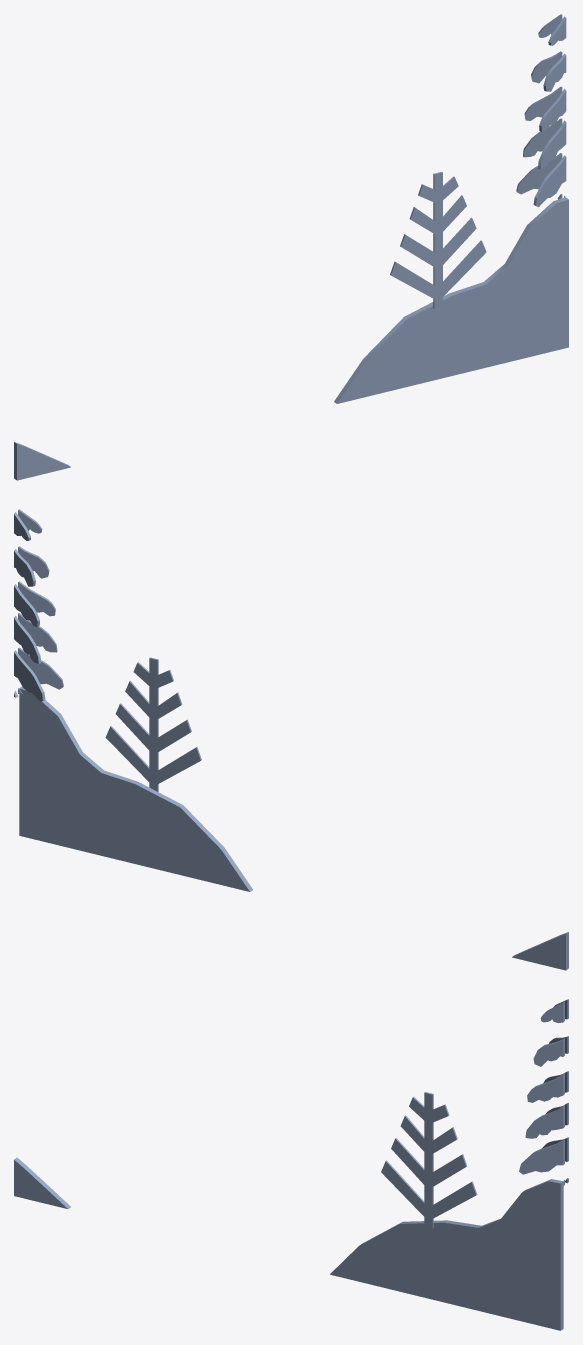
Rendered from frame_0152.glb.
3 renders of one model, top to bottom at view 1: azimuth 30°, elevation 25°; view 2: azimuth 150°, elevation 25°; view 3: azimuth 330°, elevation 25°, orthographic.
Visible parts, largest first — view 1: export_trees_001.002; view 2: export_trees_001.002; view 3: export_trees_001.002.
Boxes of the visible parts, x1,y1,x2,y2 form: export_trees_001.002: [14, 14, 568, 480]; export_trees_001.002: [14, 509, 568, 970]; export_trees_001.002: [14, 999, 568, 1330].
Bounding box in the file's own units: 0.4327 × 0.2465 × 0.0277.
